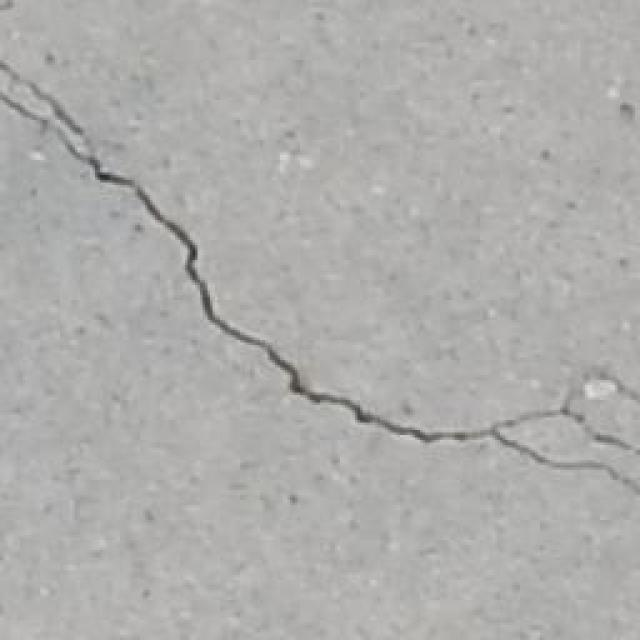concrete-crack: (0, 58, 640, 496)
